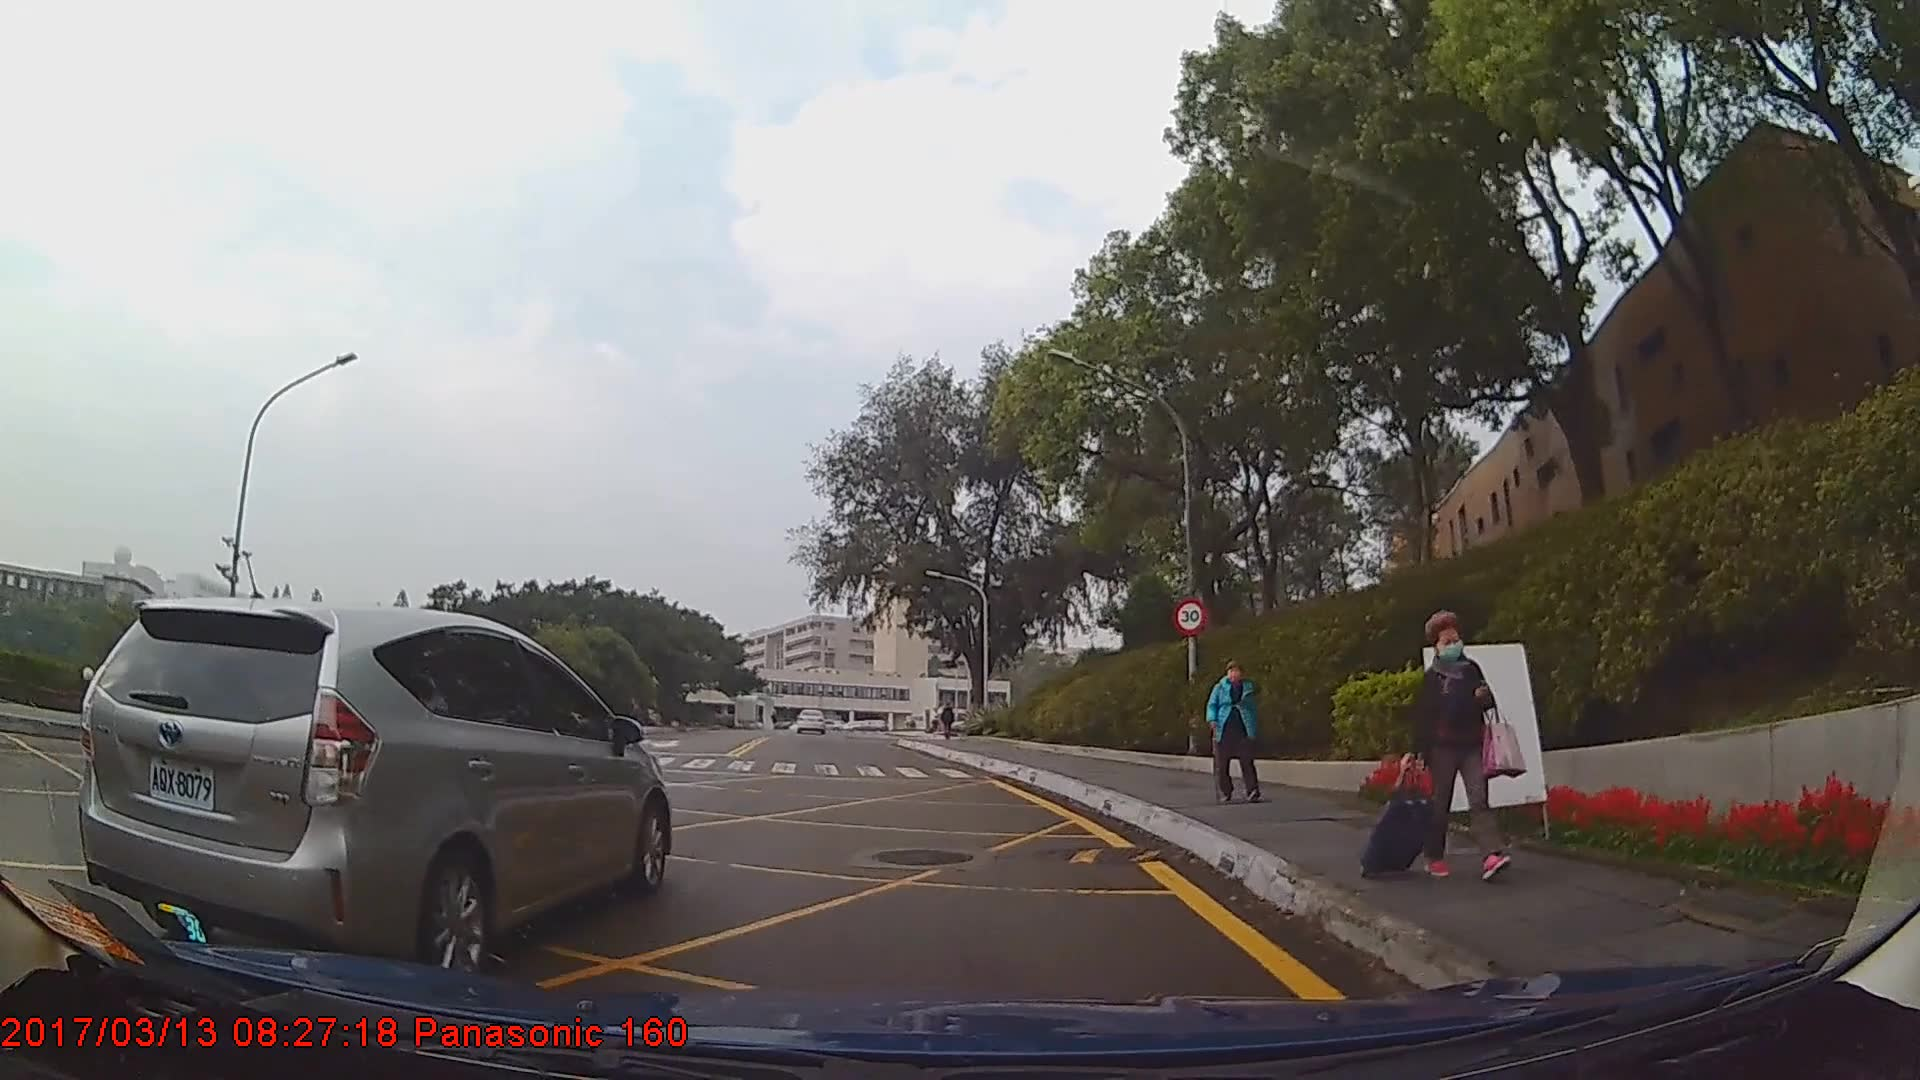pedestrian: (1355, 610, 1527, 886), (1204, 661, 1264, 804)
vehicle: (78, 594, 672, 976), (792, 706, 826, 733)
